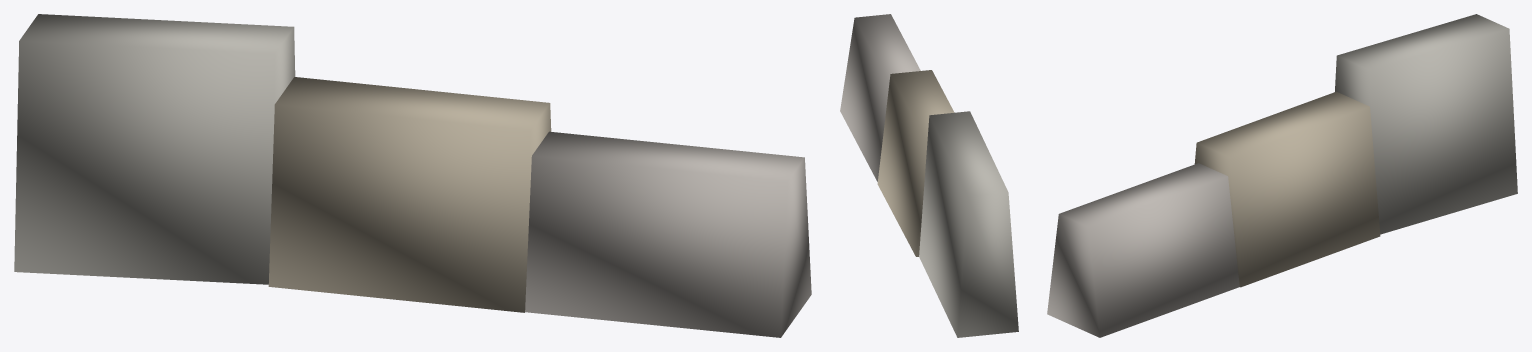
The model's file is farm_-20_-25_collision.glb.
3 renders of one model, left to right at view 1: azimuth 30°, elevation 25°; view 2: azimuth 150°, elevation 25°; view 3: azimuth 270°, elevation 25°, orthographic. The views are drawn at different scales.
Visible parts, largest first — view 1: geometry_0; view 2: geometry_0; view 3: geometry_0.
Part boxes in pixels (x1,y1,x2,y2): geometry_0: [14, 14, 811, 337]; geometry_0: [840, 14, 1018, 337]; geometry_0: [1047, 14, 1517, 337].
Bounding box in the file's own units: 3.61 × 1.56 × 3.78.
